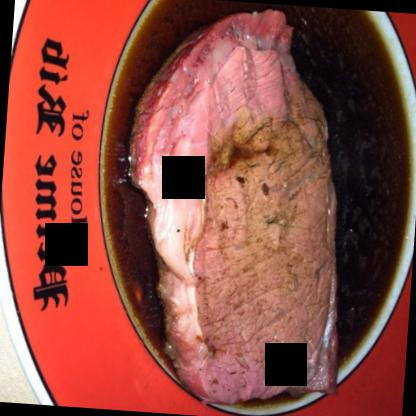beef: (109, 0, 357, 409)
